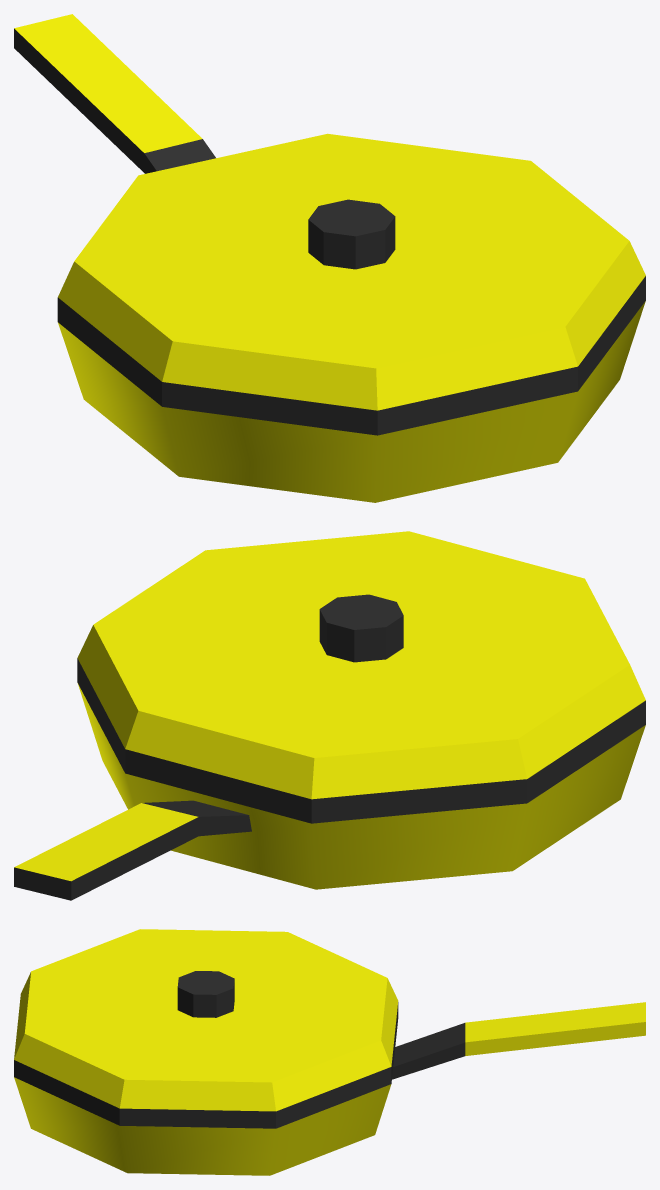
The model's file is Frying pan2_Yellow.fbx.
The picture shows the model from 3 angles, top to bottom: view 1: azimuth 30°, elevation 25°; view 2: azimuth 150°, elevation 25°; view 3: azimuth 270°, elevation 25°; orthographic projection. The views are drawn at different scales.
Parts seen in each view (by area): view 1: Frying pan2_Door, Frying pan2_Yellow; view 2: Frying pan2_Door, Frying pan2_Yellow; view 3: Frying pan2_Door, Frying pan2_Yellow.
Part boxes in pixels (bbox=[...]): Frying pan2_Door: bbox=[57, 133, 645, 435]; Frying pan2_Yellow: bbox=[14, 14, 645, 502]; Frying pan2_Door: bbox=[77, 531, 645, 823]; Frying pan2_Yellow: bbox=[14, 683, 645, 900]; Frying pan2_Door: bbox=[14, 929, 398, 1128]; Frying pan2_Yellow: bbox=[14, 1002, 645, 1175].
Bounding box in the file's own units: 30.29 × 10.34 × 49.8.
